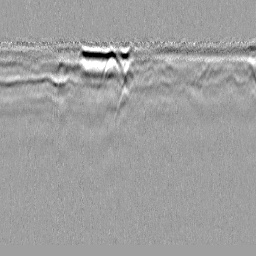cavity: (118, 61, 139, 96)
